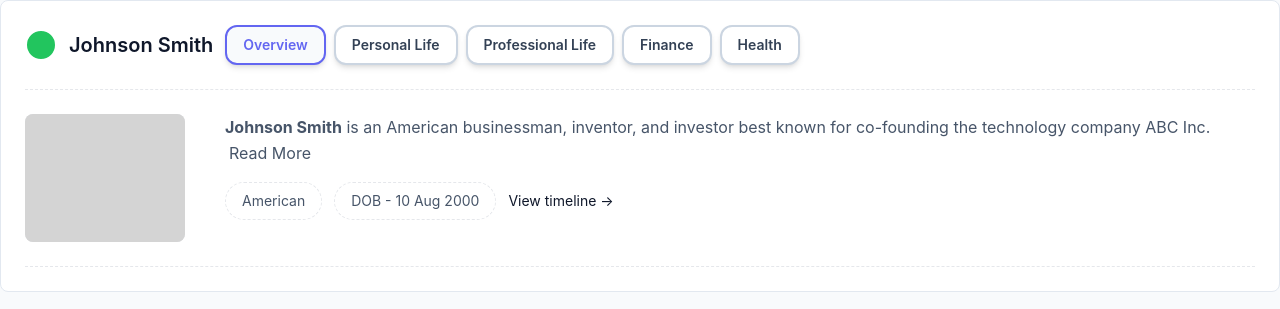
Test: PersonProfile › displays Read More toggle button with correct functionality
The image size is (1280, 309).
// Click the button to toggle
What coordinates should you click on to do the following:
click the button "Read More"
I would click on:
 (270, 153)
Its box is [229, 140, 311, 166].
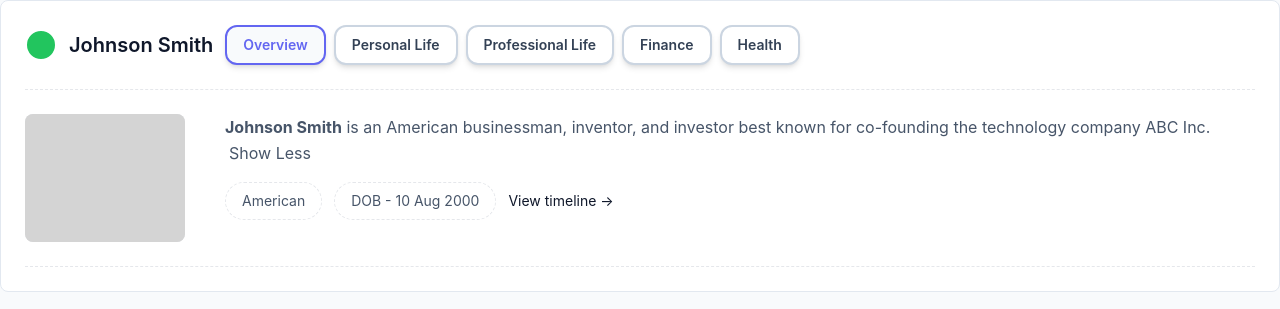
Expected: the button "Show Less" is shown
// Click again to toggle back
What coordinates should you click on to do the following:
click the button "Show Less"
I would click on:
 (270, 153)
Its box is [229, 140, 311, 166].
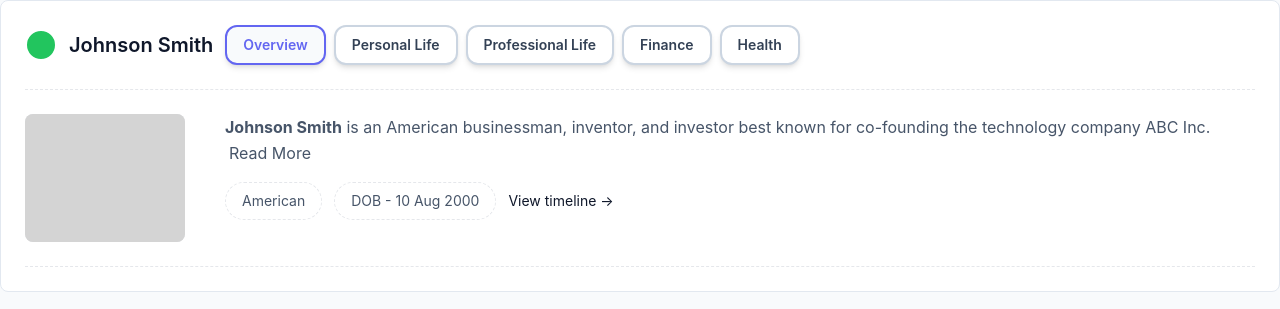
Expected: the button "Read More" is shown, [229, 140, 311, 166]
